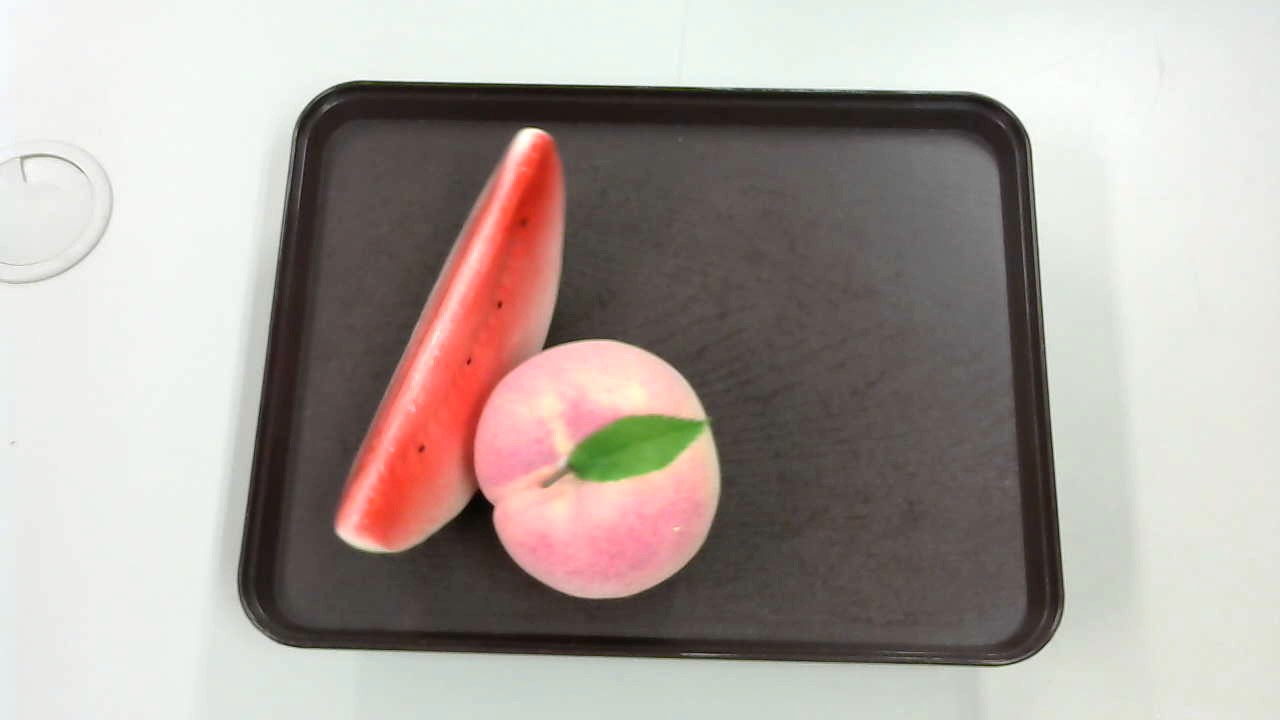peach: (468, 337, 731, 602)
water melon: (335, 128, 568, 570)
